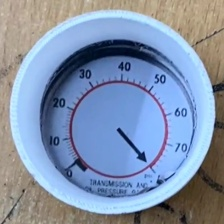gauge: (42, 49, 193, 197)
